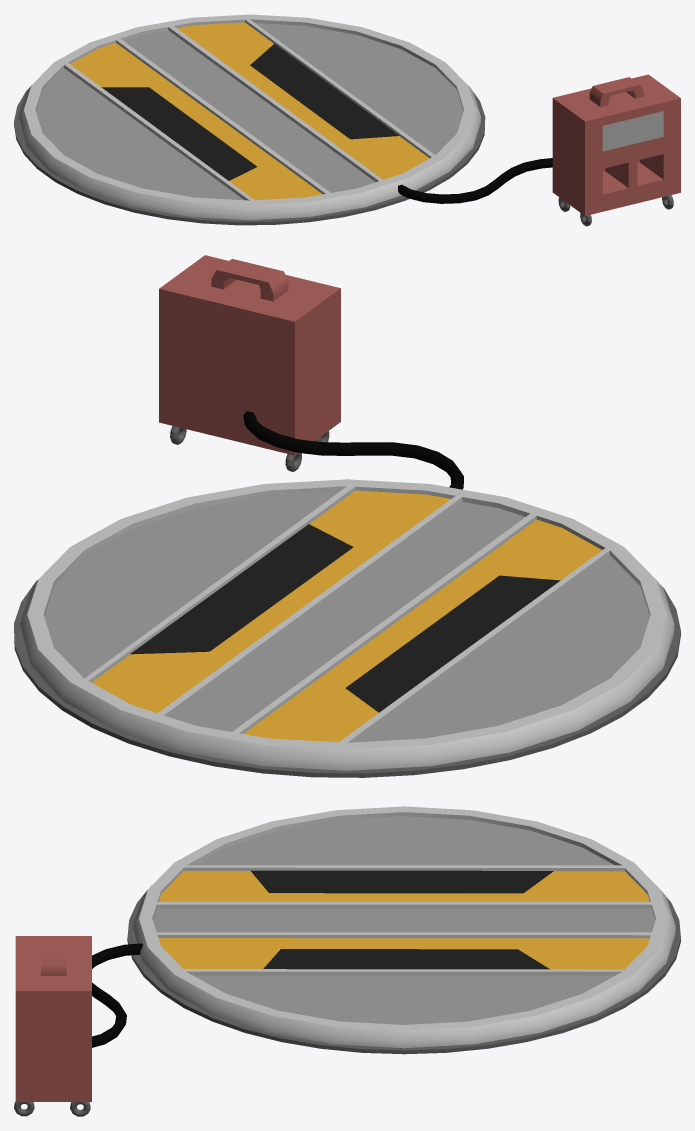
File: base_coche.fbx
3 renders of one model, top to bottom at view 1: azimuth 30°, elevation 25°; view 2: azimuth 150°, elevation 25°; view 3: azimuth 270°, elevation 25°, orthographic. The views are drawn at different scales.
Parts seen in each view (by area): view 1: Base, estanteriaRecarga, Base2, cable; view 2: Base, estanteriaRecarga, Base2, cable; view 3: Base, estanteriaRecarga, Base2, cable.
Boxes of the visible parts, x1,y1,x2,y2 form: Base: (18, 14, 480, 220); estanteriaRecarga: (552, 74, 680, 215); Base2: (14, 86, 485, 225); cable: (398, 158, 552, 203); Base: (20, 479, 674, 770); estanteriaRecarga: (159, 255, 340, 455); Base2: (14, 580, 680, 777); cable: (243, 411, 463, 489); Base: (132, 806, 675, 1048); estanteriaRecarga: (15, 936, 91, 1101); Base2: (127, 885, 680, 1054); cable: (92, 943, 142, 1047).
Bounding box in the file's own units: 14.25 × 3.58 × 14.93.
